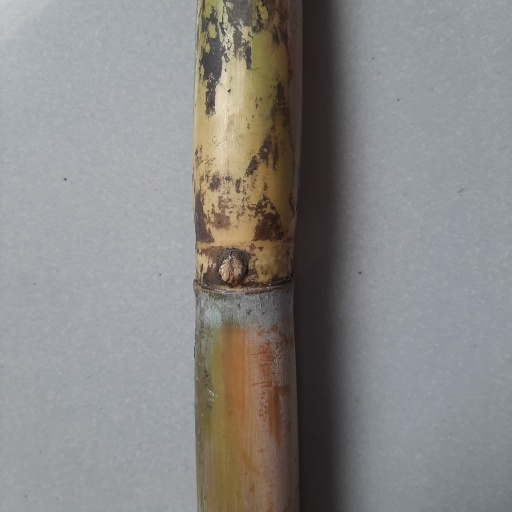Bud: (215, 256, 246, 287)
